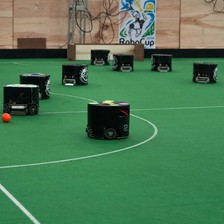ball: (1, 108, 12, 122)
goal: (63, 42, 147, 63)
robot: (84, 98, 130, 140), (1, 80, 40, 115), (189, 60, 217, 85), (59, 61, 87, 85), (110, 51, 134, 73), (148, 52, 173, 73), (37, 72, 51, 100), (87, 47, 108, 64)
